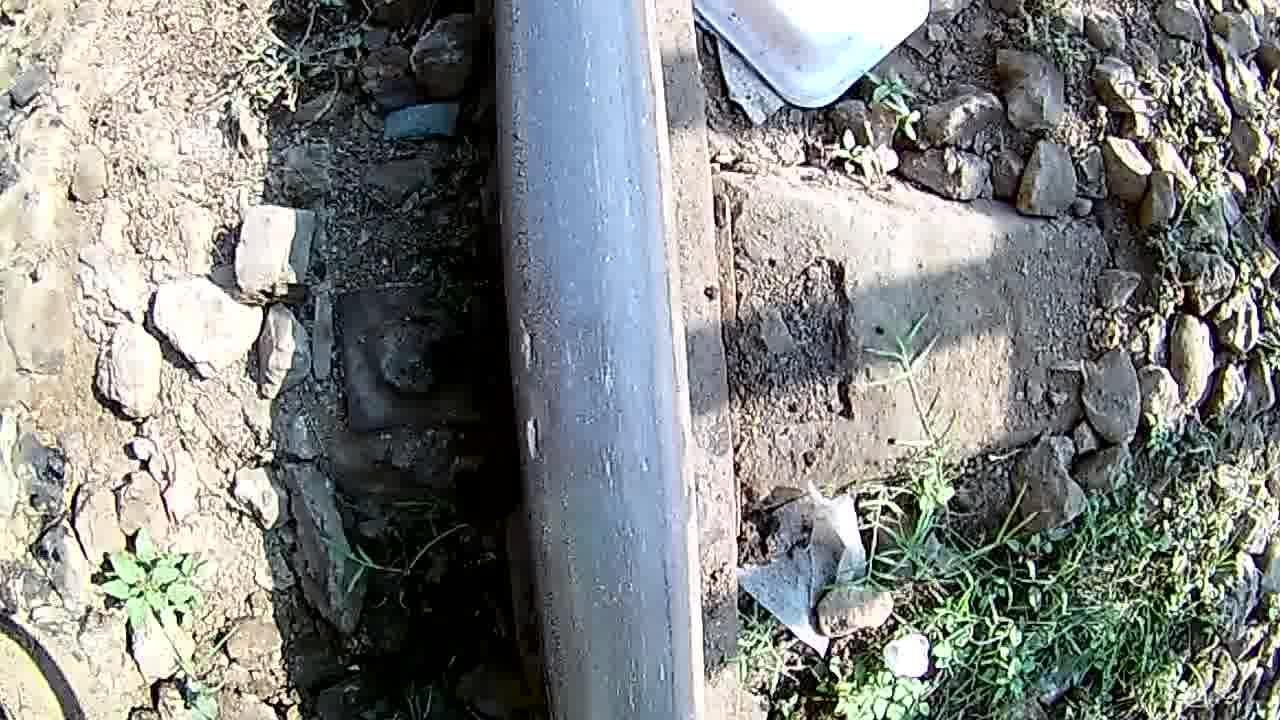crack: (484, 0, 706, 720)
